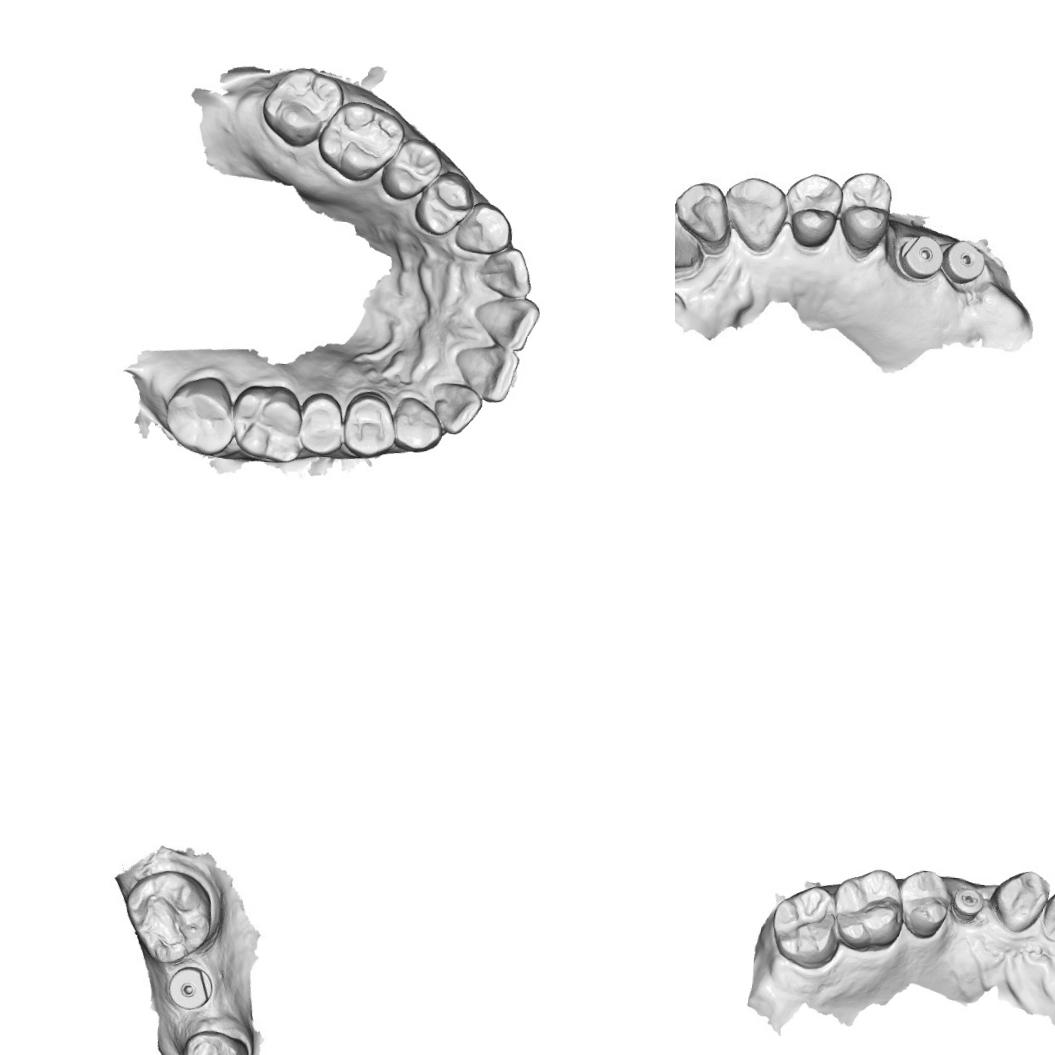canine: (723, 173, 789, 256), (988, 867, 1052, 936), (452, 198, 515, 256), (390, 394, 444, 454)
implant: (938, 234, 990, 288), (167, 961, 216, 1014), (895, 232, 944, 280)
implant_minus: (948, 883, 988, 926)
incisor: (675, 176, 734, 252), (470, 292, 541, 353), (452, 342, 521, 404), (474, 244, 534, 300), (428, 380, 484, 436), (675, 184, 705, 276), (1040, 885, 1055, 946)
molar: (126, 872, 220, 962), (825, 862, 914, 956), (314, 98, 407, 185), (256, 63, 346, 150), (768, 880, 844, 972), (230, 381, 308, 465), (162, 373, 238, 458)
premolar: (378, 134, 444, 203), (410, 168, 475, 238), (839, 172, 892, 253), (897, 866, 953, 941), (339, 389, 398, 460), (788, 174, 844, 248), (296, 388, 345, 458), (186, 1030, 251, 1055)
